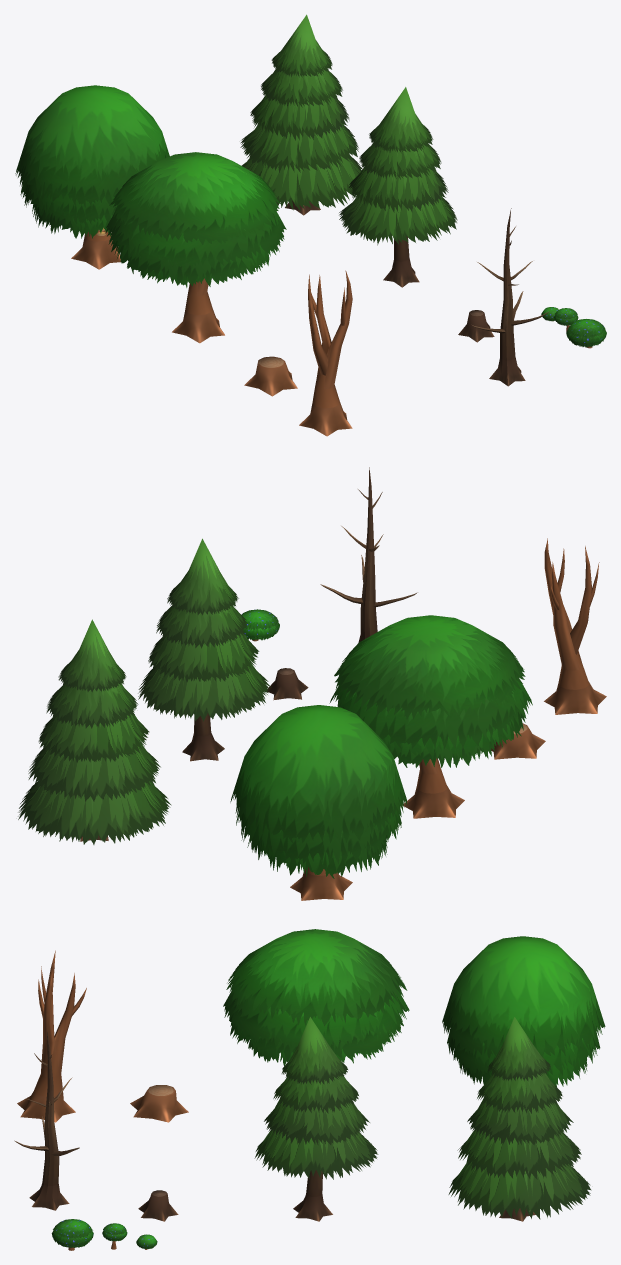
The model's file is pack_arvores.fbx.
The picture shows the model from 3 angles, top to bottom: view 1: azimuth 30°, elevation 25°; view 2: azimuth 150°, elevation 25°; view 3: azimuth 270°, elevation 25°; orthographic projection. The views are drawn at different scales.
Visible parts, largest first — view 1: copa_jovem, copa_velha, pinheiro_velho, pinheiro_jovem, copa_seca, pinheiro_seco, copa_tronco, arbusto3, pinheiro_tronco; view 2: copa_velha, copa_jovem, pinheiro_velho, pinheiro_jovem, copa_seca, pinheiro_seco, copa_tronco, arbusto3, pinheiro_tronco; view 3: copa_jovem, copa_velha, pinheiro_velho, pinheiro_jovem, copa_seca, pinheiro_seco, copa_tronco, arbusto3, pinheiro_tronco.
Boxes of the visible parts, x1,y1,x2,y2 form: copa_jovem: [104, 152, 286, 343]; copa_velha: [15, 85, 169, 269]; pinheiro_velho: [240, 14, 362, 215]; pinheiro_jovem: [339, 87, 457, 287]; copa_seca: [299, 270, 352, 436]; pinheiro_seco: [472, 208, 549, 386]; copa_tronco: [244, 356, 297, 396]; arbusto3: [566, 319, 606, 348]; pinheiro_tronco: [458, 310, 494, 342]; copa_velha: [230, 705, 406, 900]; copa_jovem: [329, 615, 532, 818]; pinheiro_velho: [18, 619, 171, 844]; pinheiro_jovem: [138, 538, 271, 761]; copa_seca: [544, 538, 606, 714]; pinheiro_seco: [320, 467, 417, 652]; copa_tronco: [491, 723, 545, 759]; arbusto3: [241, 609, 279, 641]; pinheiro_tronco: [267, 668, 308, 700]; copa_jovem: [223, 929, 409, 1065]; copa_velha: [442, 936, 605, 1086]; pinheiro_velho: [448, 1017, 591, 1221]; pinheiro_jovem: [254, 1017, 378, 1221]; copa_seca: [17, 950, 86, 1122]; pinheiro_seco: [14, 1030, 79, 1210]; copa_tronco: [130, 1085, 188, 1122]; arbusto3: [51, 1219, 93, 1250]; pinheiro_tronco: [138, 1190, 178, 1221].
Size of the model in its own units: 1014 by 501 by 1354.
